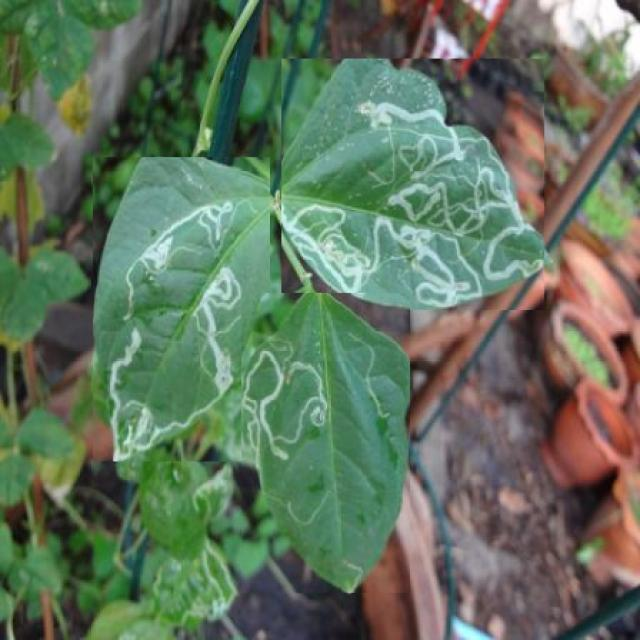Leaf Miner: (282, 59, 544, 310), (94, 157, 270, 462), (241, 294, 410, 594)
